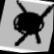not correct: (1, 0, 54, 53)
